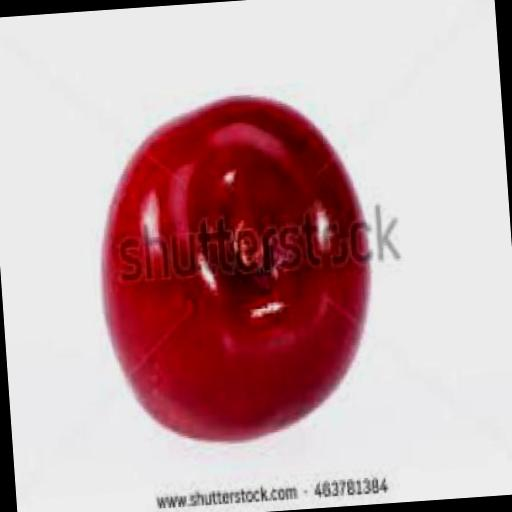biodegradable: (85, 84, 380, 447)
